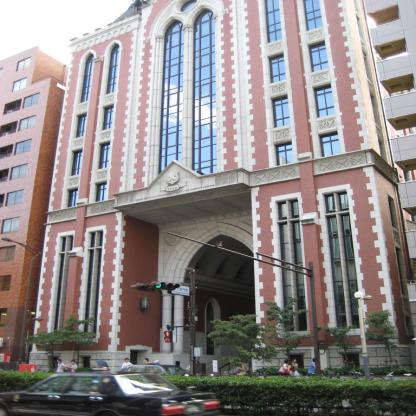Car: (1, 373, 221, 416), (115, 364, 197, 377)
